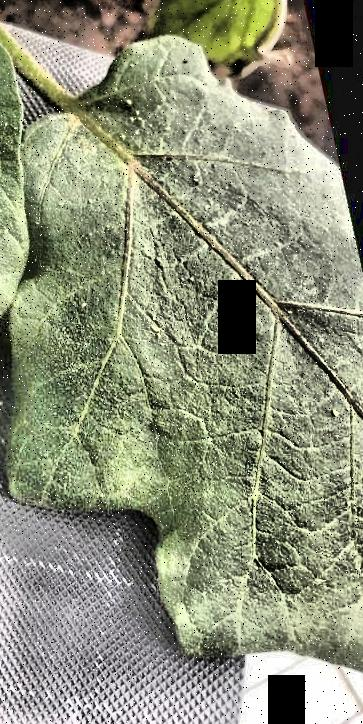HEALTHY: (1, 0, 363, 724)
